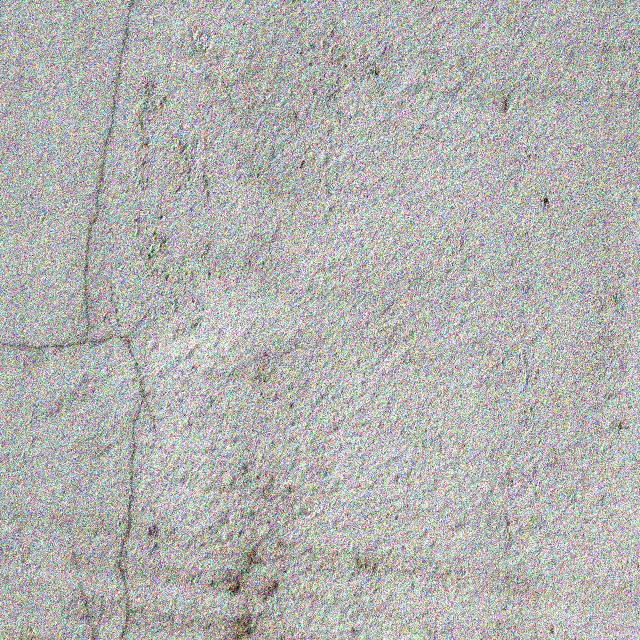SurfaceCrack: (58, 0, 178, 336)
